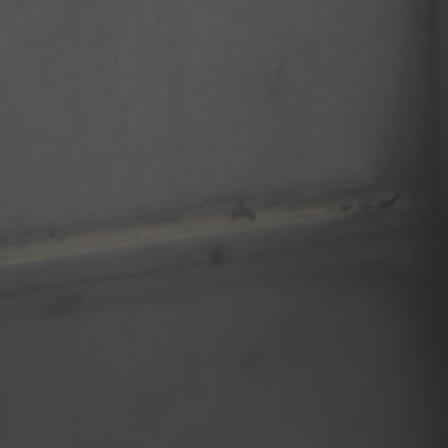Jentik-Nyamuk: (226, 197, 259, 226)
